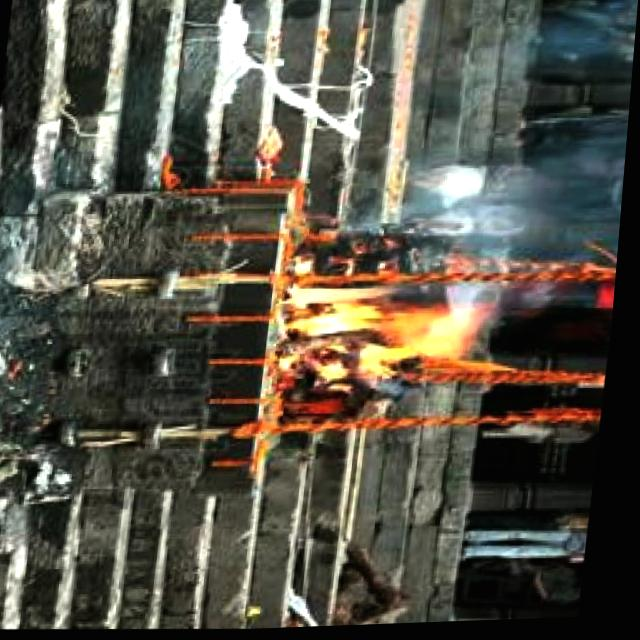Fire: (273, 277, 486, 392)
